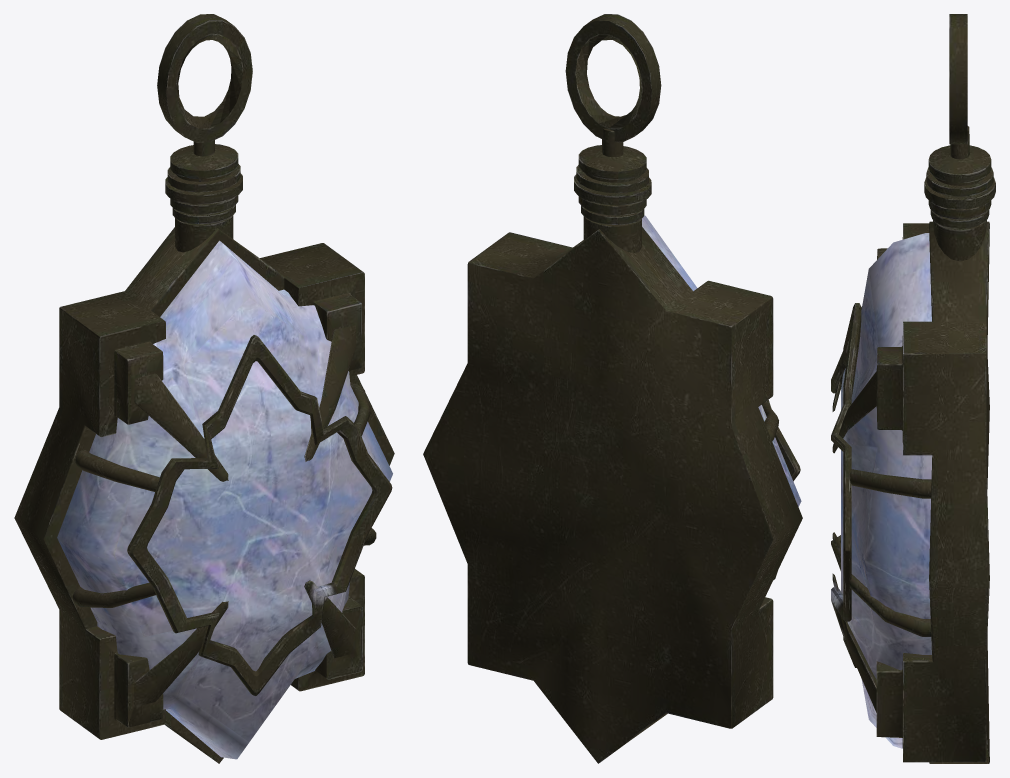
Rendered from pendantCompressed.glb.
3 views of the same model, side by side, from view 1: azimuth 30°, elevation 25°; view 2: azimuth 150°, elevation 25°; view 3: azimuth 270°, elevation 25° (orthographic).
Parts seen in each view (by area): view 1: Mesh_0.004; view 2: Mesh_0.004; view 3: Mesh_0.004.
Boxes of the visible parts, bbox=[...] form: Mesh_0.004: bbox=[14, 14, 394, 763]; Mesh_0.004: bbox=[423, 14, 802, 763]; Mesh_0.004: bbox=[831, 14, 995, 763].
Size of the model in its own units: 0.25 by 0.5 by 0.1.
Materials: 1 (1 with a texture image).
